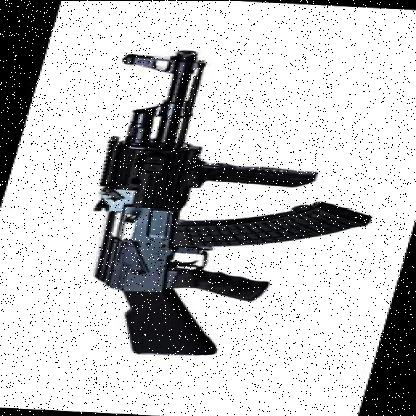rifle: (50, 37, 413, 364)
